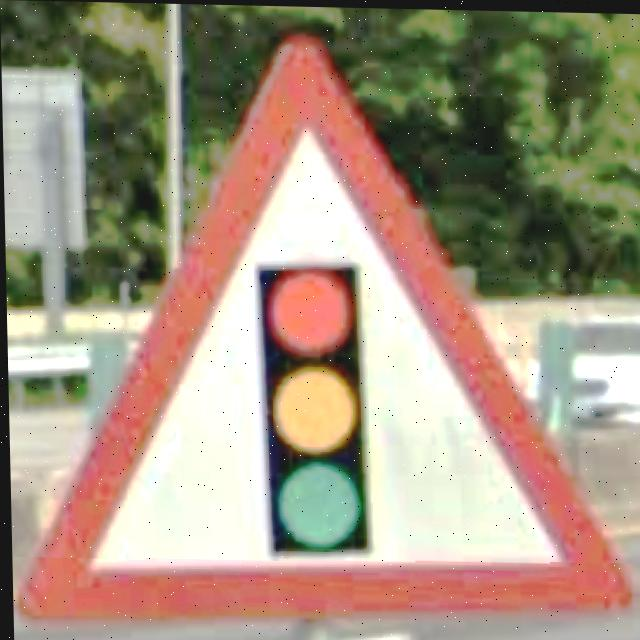signalahead: (14, 35, 634, 626)
